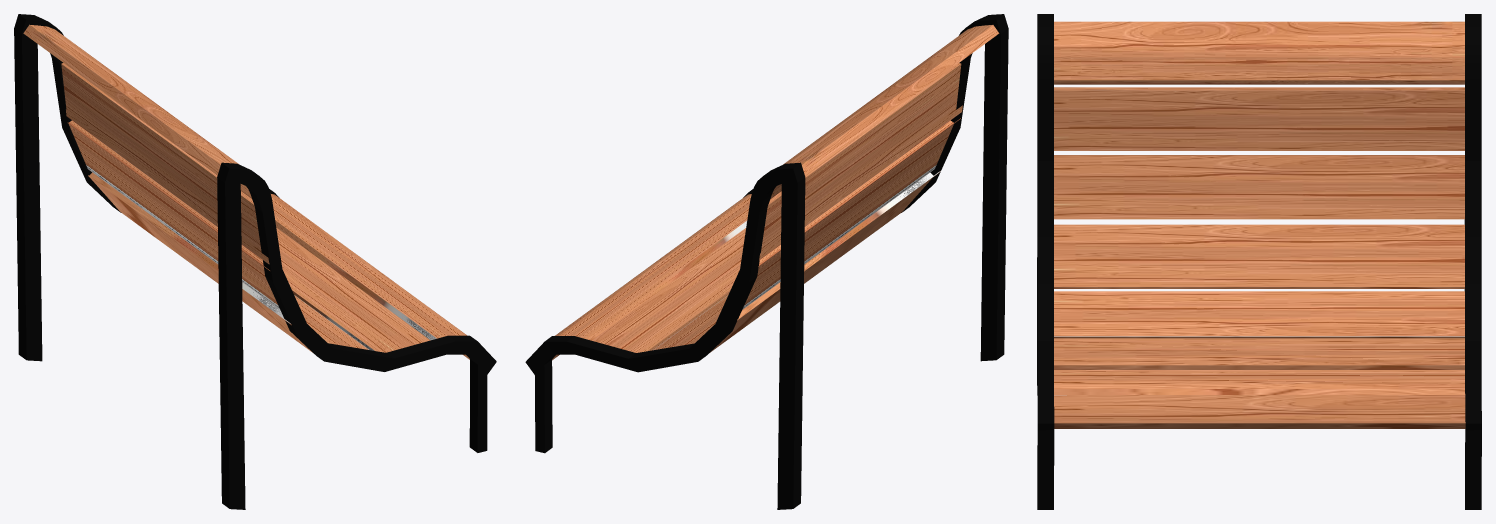
The model's file is Silla (2).fbx.
3 renders of one model, left to right at view 1: azimuth 30°, elevation 25°; view 2: azimuth 150°, elevation 25°; view 3: azimuth 270°, elevation 25°, orthographic. The views are drawn at different scales.
Visible parts, largest first — view 1: Cube.006; view 2: Cube.006; view 3: Cube.006.
Part boxes in pixels (box(x1,y1,x2,y2)): Cube.006: box(14, 14, 496, 509); Cube.006: box(525, 14, 1008, 509); Cube.006: box(1037, 14, 1481, 509).
Size of the model in its own units: 723 by 878 by 974.
Materials: 2 (1 with a texture image).
